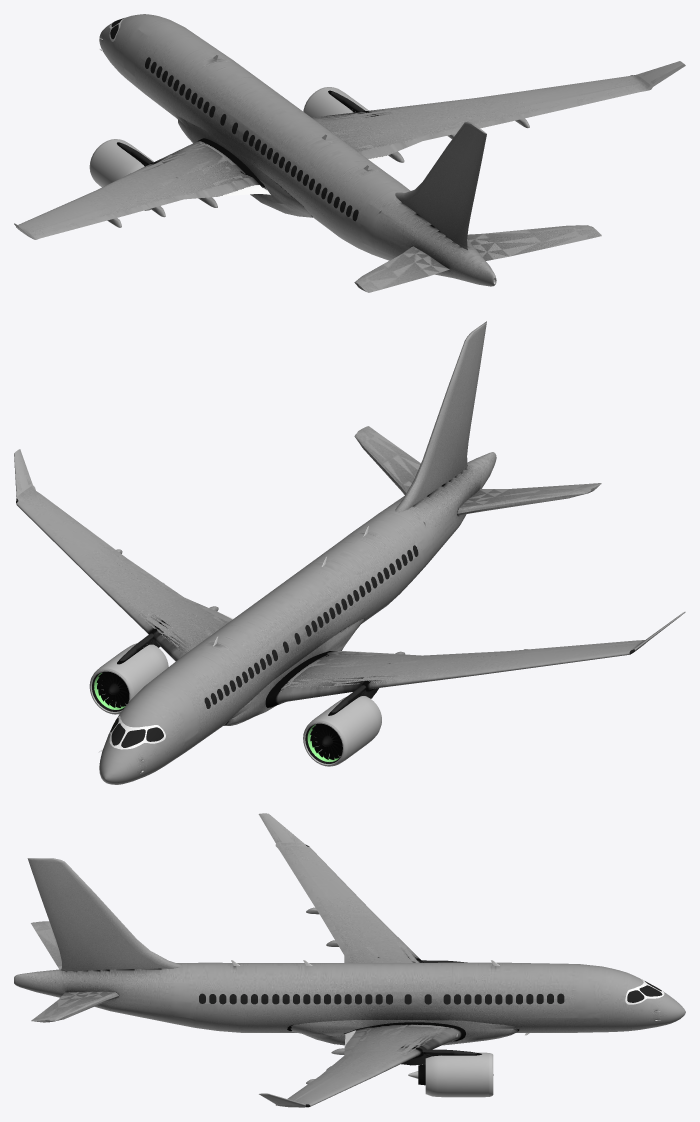
3 views of the same model, one above another, from view 1: azimuth 30°, elevation 25°; view 2: azimuth 150°, elevation 25°; view 3: azimuth 270°, elevation 25° (orthographic). The views are drawn at different scales.
Parts seen in each view (by area): view 1: rootNode; view 2: rootNode; view 3: rootNode.
Boxes of the visible parts, x1,y1,x2,y2 form: rootNode: [14, 14, 685, 292]; rootNode: [14, 321, 685, 784]; rootNode: [14, 813, 685, 1107].
Size of the model in its own units: 34.59 by 11.05 by 35.02.
6 materials, 2 textured.
